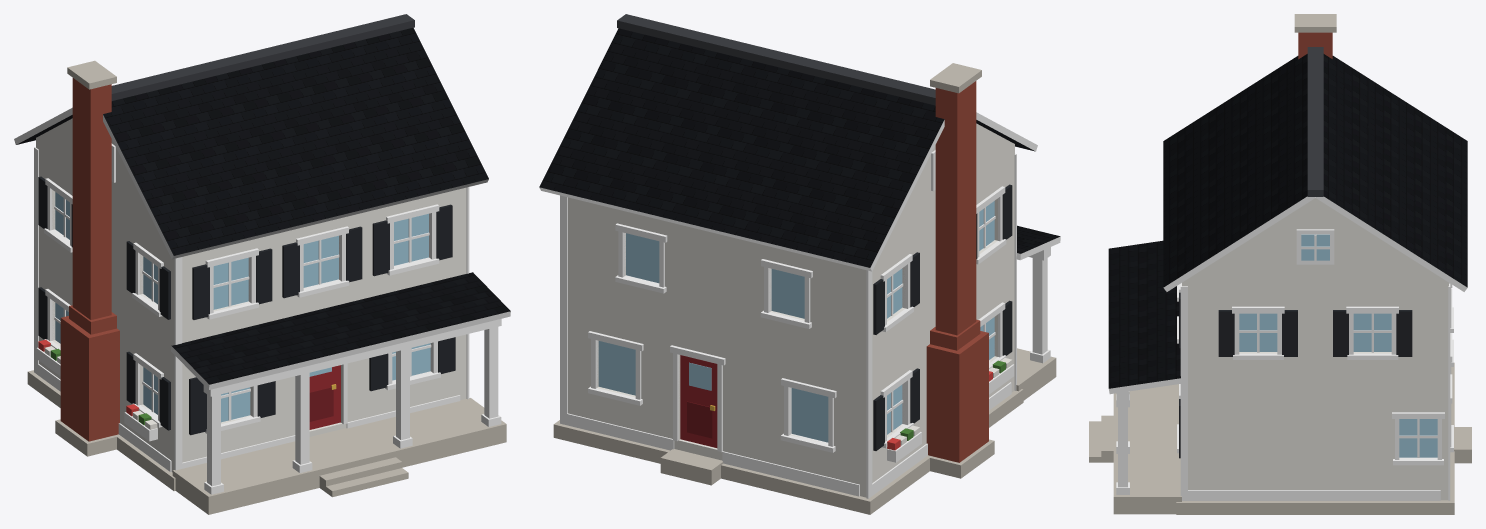
File: base-03-level1.glb
3 renders of one model, left to right at view 1: azimuth 30°, elevation 25°; view 2: azimuth 150°, elevation 25°; view 3: azimuth 270°, elevation 25°, orthographic. The views are drawn at different scales.
Visible parts, largest first — view 1: base_house_3_finished; view 2: base_house_3_finished; view 3: base_house_3_finished.
Boxes of the visible parts, x1,y1,x2,y2 form: base_house_3_finished: (14,14,510,514); base_house_3_finished: (539,14,1060,514); base_house_3_finished: (1089,14,1471,514).
Size of the model in its own units: 9.79 by 10.14 by 10.04.
15 materials, 1 textured.
